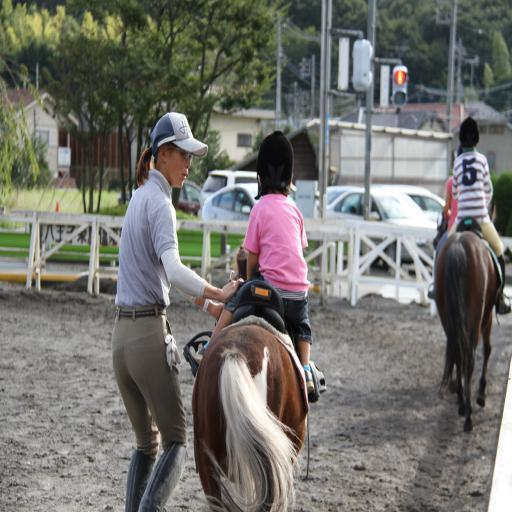horse: (189, 242, 307, 512), (430, 200, 501, 437)
